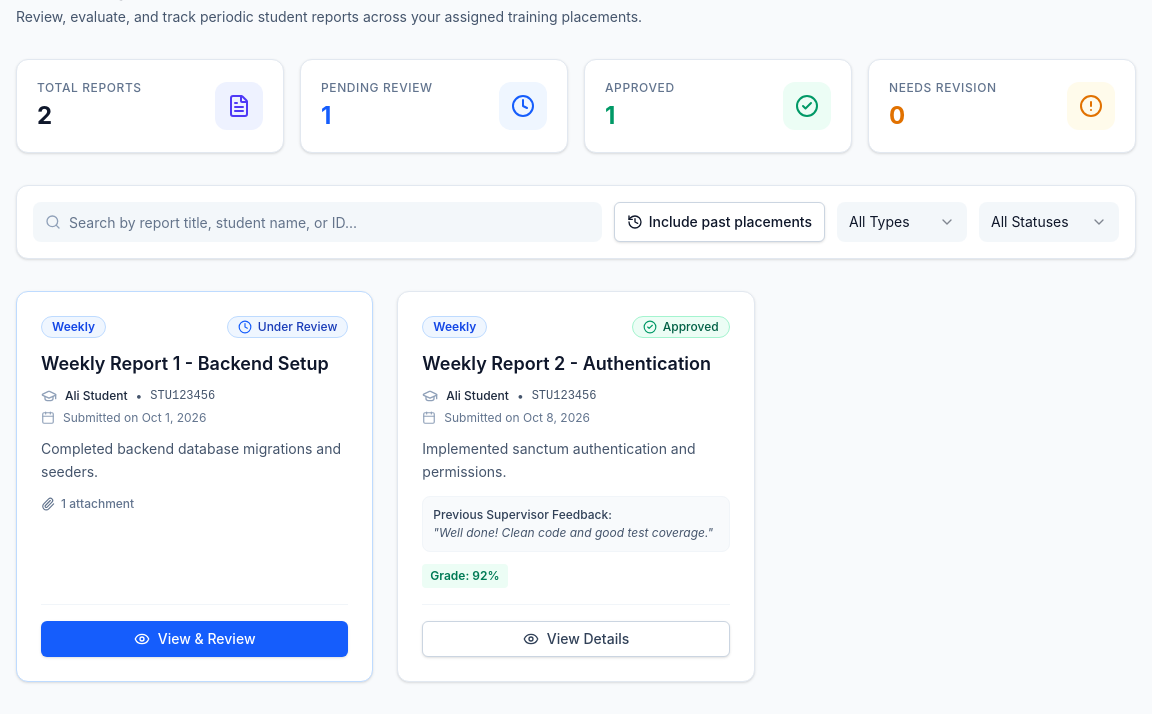
Test: SupervisorReportsPage › validates decision-aware feedback message when rejecting without feedback
(page scrolled)
Click the button "View & Review": x=195, y=638 left=41, top=620, right=348, bottom=656
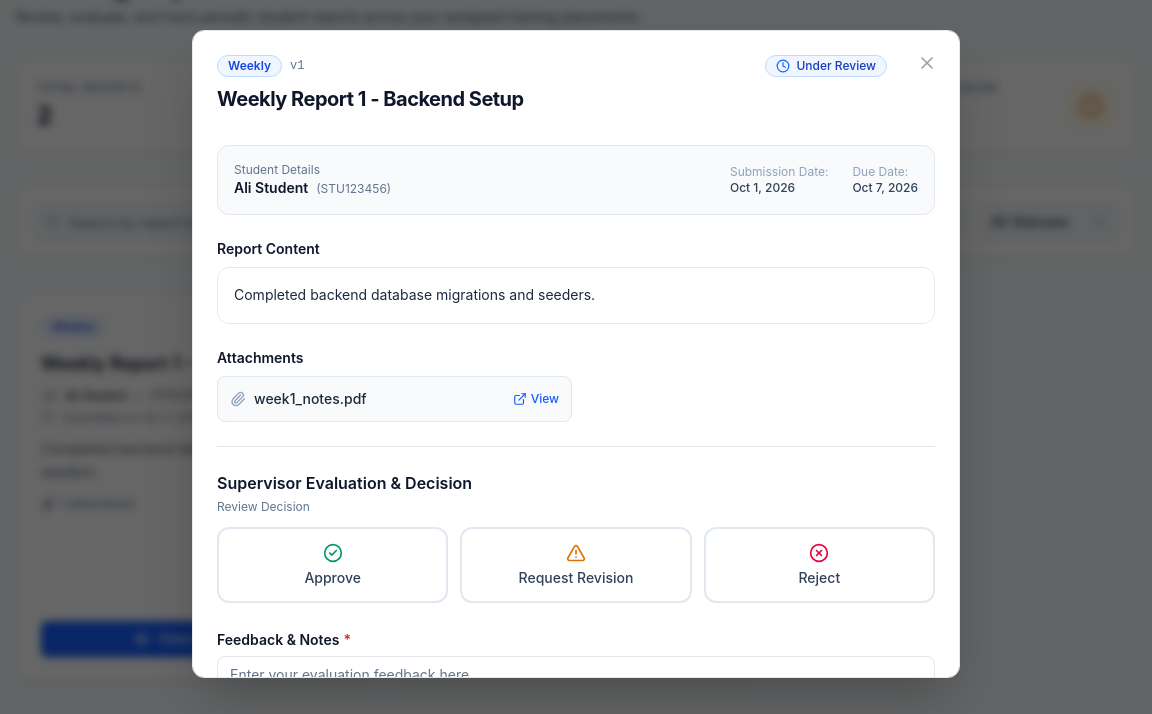
Expected: the dialog is shown
Note: Select Reject
Click the button "Reject": x=819, y=565 left=704, top=527, right=935, bottom=603
(page scrolled)
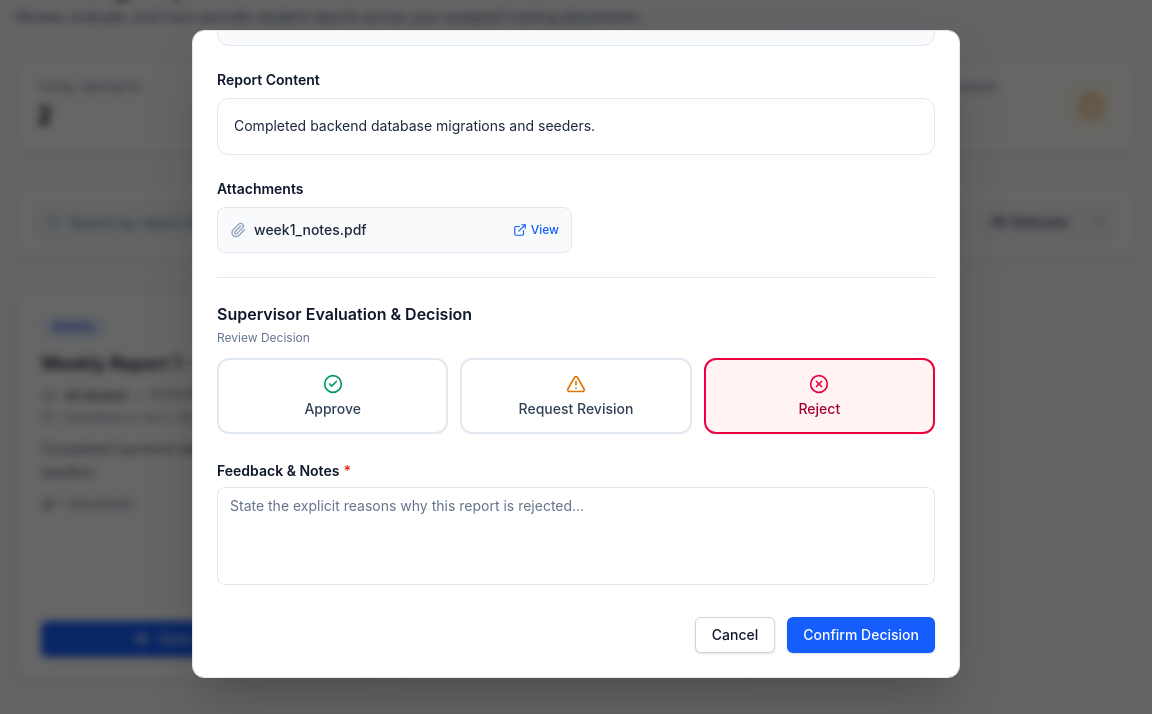
Click the button "Confirm Decision": x=861, y=635 left=787, top=617, right=935, bottom=653
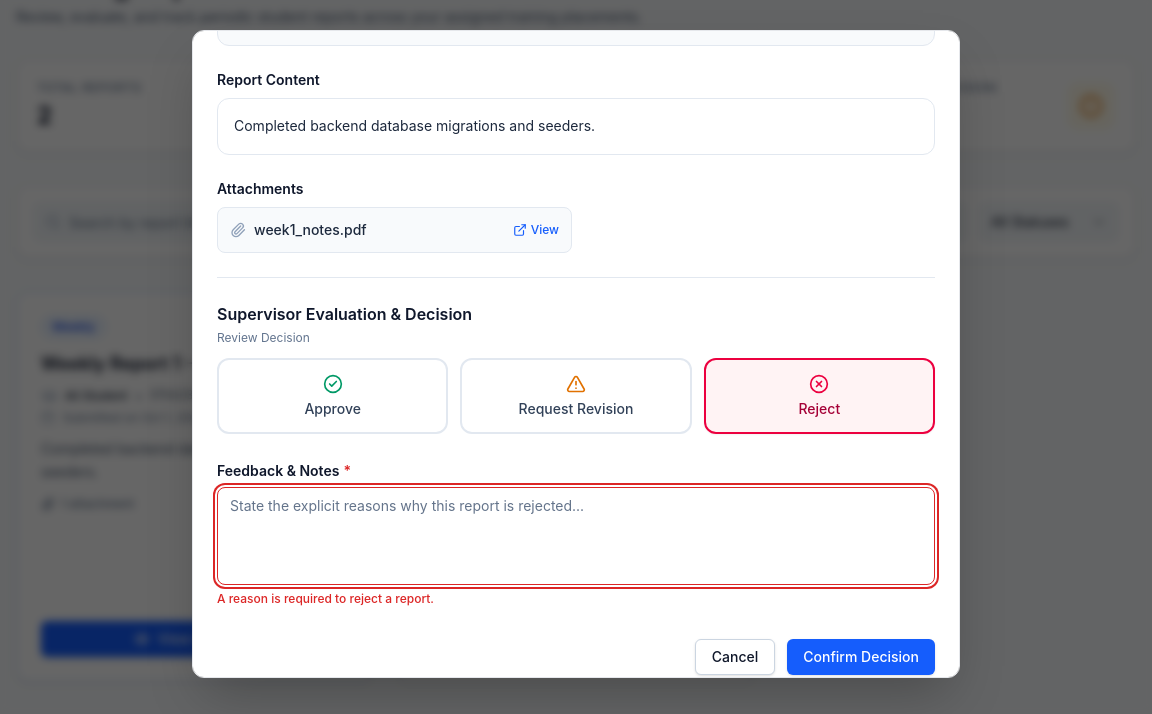
Expected: the text "A reason is required to reject a report." is shown, left=217, top=591, right=434, bottom=606
